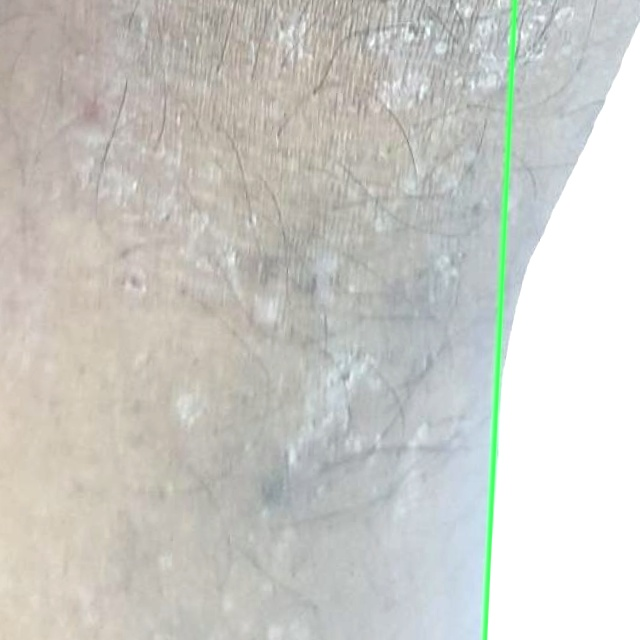Contact Dermatitis: (484, 0, 639, 639)
